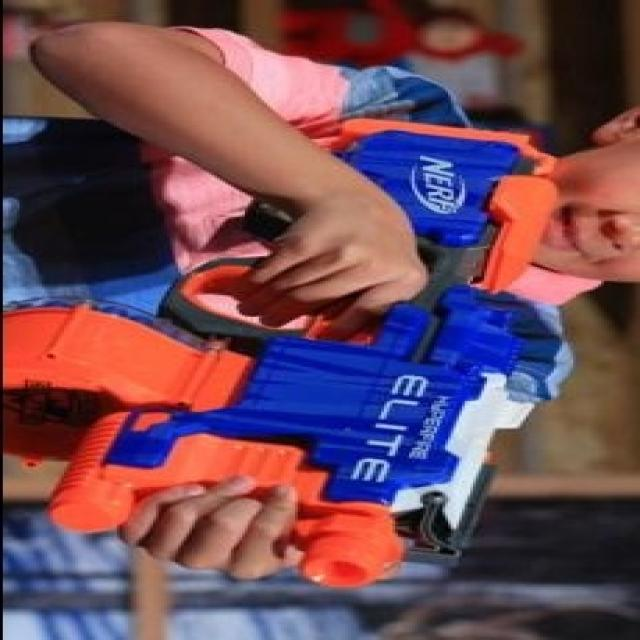Nerf gun: (1, 108, 583, 594)
